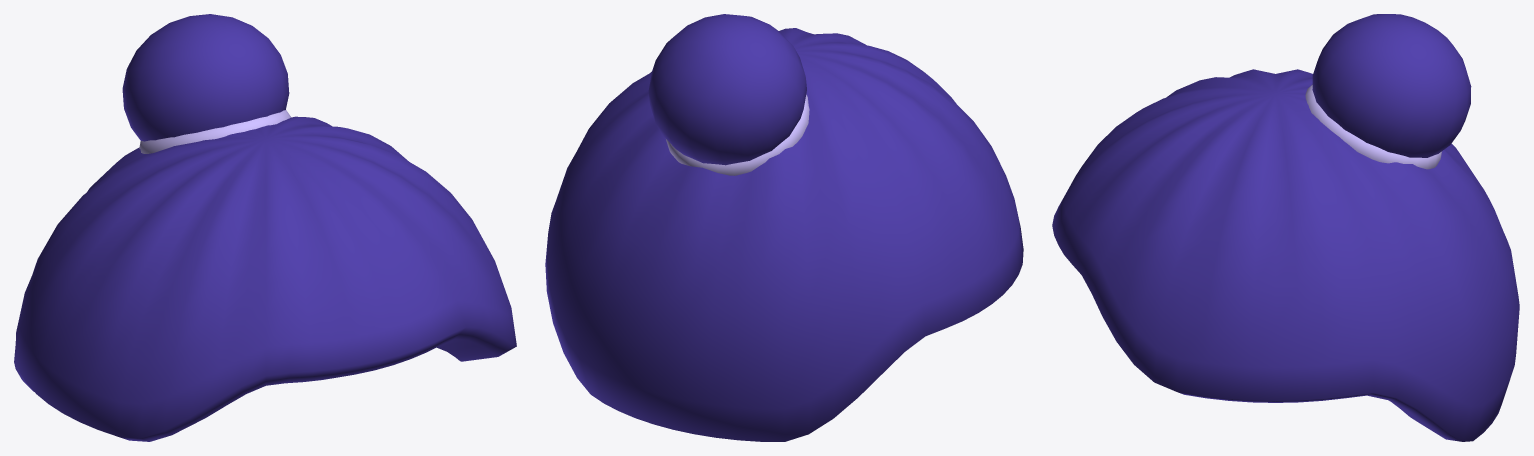
File: hair-bun.glb
3 views of the same model, side by side, from view 1: azimuth 30°, elevation 25°; view 2: azimuth 150°, elevation 25°; view 3: azimuth 270°, elevation 25° (orthographic). The views are drawn at different scales.
Parts seen in each view (by area): view 1: hair-bun-mesh; view 2: hair-bun-mesh; view 3: hair-bun-mesh.
Part boxes in pixels (left/top/right/bottom): hair-bun-mesh: left=14, top=14, right=516, bottom=441; hair-bun-mesh: left=545, top=14, right=1023, bottom=441; hair-bun-mesh: left=1052, top=14, right=1519, bottom=441.
Bounding box in the file's own units: 2.16 × 1.83 × 2.08.
